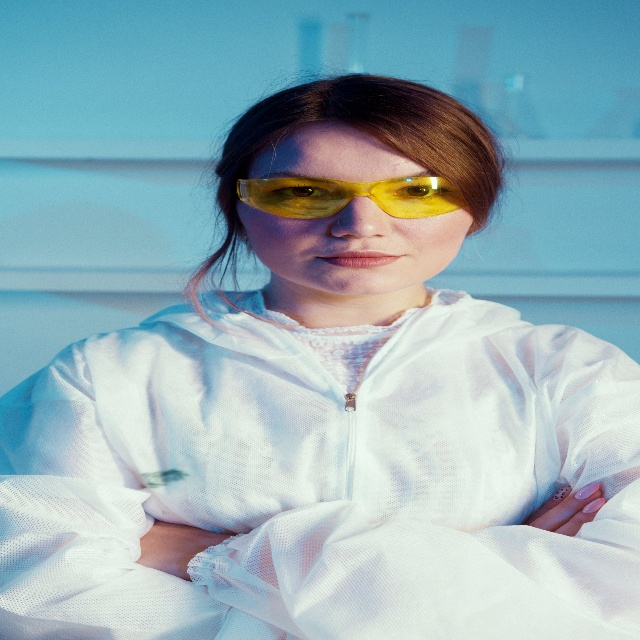Gafas: (231, 155, 468, 234)
Sin_guantes: (140, 515, 227, 576), (524, 476, 606, 529)
